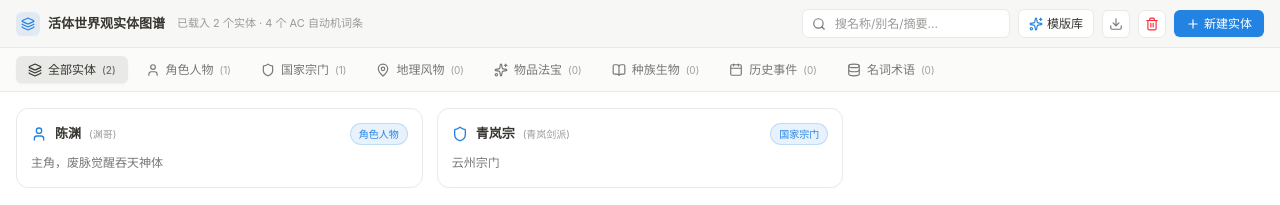
Test: CodexMasterView Component › filters loaded entities when category tab is clicked
Expected: the text "主角，废脉觉醒吞天神体" is shown, [31, 155, 163, 170]
Note: 点击国家宗门标签
Click the button "国家宗门 (1)".
click(304, 70)  # box [249, 56, 358, 83]
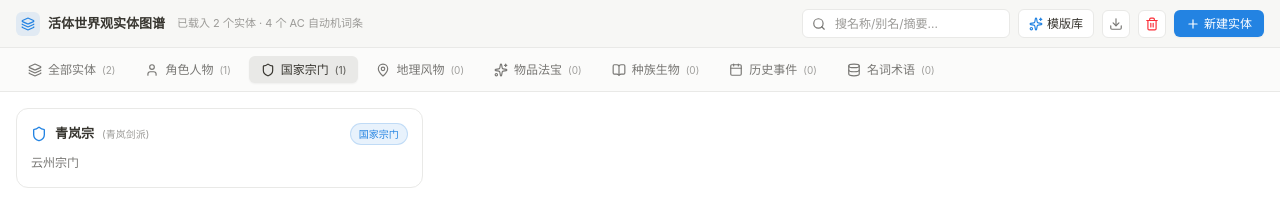
Expected: the text "云州宗门" is shown, [31, 155, 79, 170]
Result: the text "主角，废脉觉醒吞天神体" is gone
